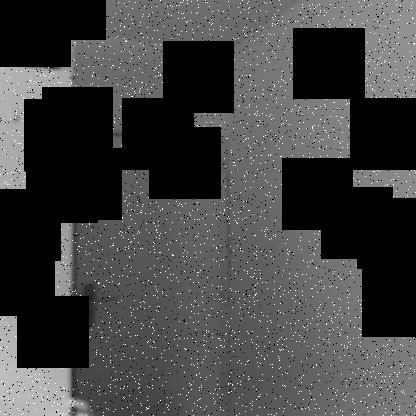Porte: (73, 124, 240, 415)
